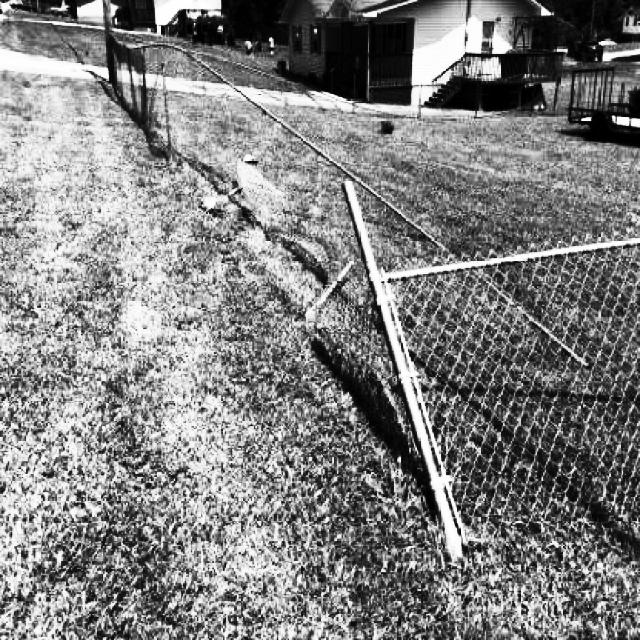anomaly-fence: (326, 114, 640, 548)
